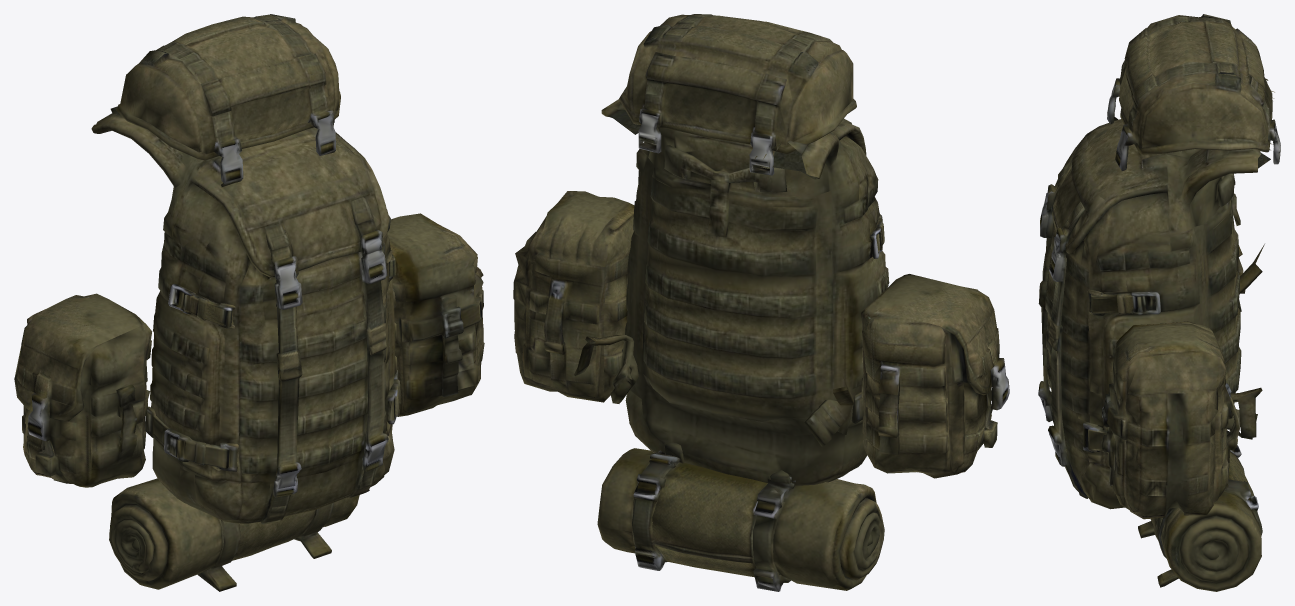
File: trail_pack.glb
3 views of the same model, side by side, from view 1: azimuth 30°, elevation 25°; view 2: azimuth 150°, elevation 25°; view 3: azimuth 270°, elevation 25° (orthographic). The views are drawn at different scales.
Visible parts, largest first — view 1: tripo_part_0, tripo_part_4, tripo_part_1, tripo_part_7, tripo_part_8, tripo_part_14, tripo_part_5, tripo_part_21, tripo_part_16, tripo_part_25, tripo_part_17, tripo_part_18; view 2: tripo_part_0, tripo_part_4, tripo_part_1, tripo_part_7, tripo_part_8, tripo_part_16, tripo_part_15, tripo_part_18, tripo_part_17; view 3: tripo_part_0, tripo_part_7, tripo_part_4, tripo_part_15, tripo_part_5, tripo_part_14, tripo_part_26, tripo_part_18, tripo_part_20, tripo_part_16, tripo_part_17.
Part boxes in pixels (x1,y1,x2,y2): tripo_part_0: [91, 106, 396, 523]; tripo_part_4: [116, 14, 340, 186]; tripo_part_1: [14, 293, 152, 487]; tripo_part_7: [387, 213, 484, 416]; tripo_part_8: [109, 478, 223, 589]; tripo_part_14: [260, 223, 302, 524]; tripo_part_5: [347, 197, 388, 498]; tripo_part_21: [145, 406, 238, 471]; tripo_part_16: [232, 509, 316, 560]; tripo_part_25: [168, 284, 235, 328]; tripo_part_17: [197, 520, 240, 591]; tripo_part_18: [294, 502, 333, 558]; tripo_part_0: [574, 99, 889, 485]; tripo_part_4: [619, 14, 856, 175]; tripo_part_1: [861, 274, 1009, 478]; tripo_part_7: [513, 191, 634, 402]; tripo_part_8: [773, 479, 884, 590]; tripo_part_16: [652, 462, 774, 577]; tripo_part_15: [597, 448, 653, 553]; tripo_part_18: [632, 450, 679, 570]; tripo_part_17: [753, 476, 795, 591]; tripo_part_0: [1045, 78, 1274, 509]; tripo_part_7: [1101, 321, 1240, 519]; tripo_part_4: [1107, 14, 1280, 171]; tripo_part_15: [1161, 491, 1261, 591]; tripo_part_5: [1048, 201, 1088, 498]; tripo_part_14: [1038, 160, 1071, 423]; tripo_part_26: [1087, 289, 1161, 315]; tripo_part_18: [1155, 479, 1262, 587]; tripo_part_20: [1083, 422, 1108, 453]; tripo_part_16: [1150, 451, 1253, 539]; tripo_part_17: [1138, 431, 1244, 538].
Bounding box in the file's own units: 0.6588 × 0.7304 × 0.3135.
1 material, 1 textured.
